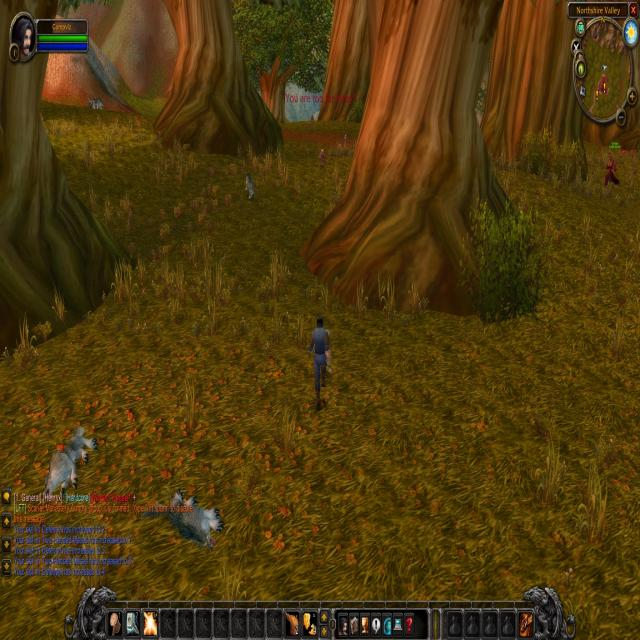wolf: (138, 477, 231, 563), (35, 417, 105, 507), (241, 163, 259, 209), (84, 89, 108, 117)
